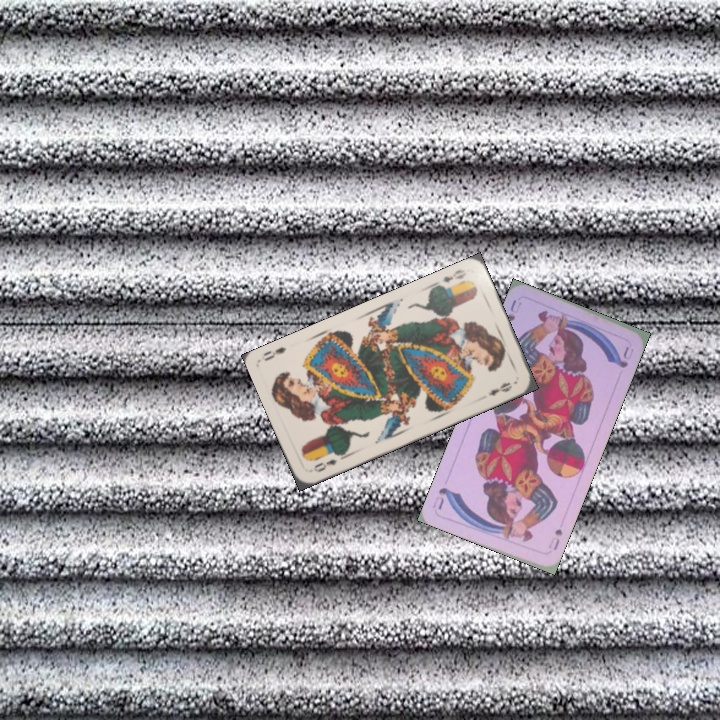EO: (432, 265, 469, 292), (309, 455, 340, 475)
SU: (544, 524, 565, 553), (503, 296, 524, 324)
